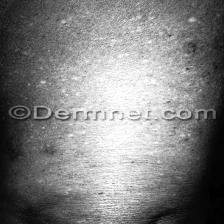Benign Marking or Mole: (75, 12, 157, 56), (31, 70, 110, 99), (182, 12, 216, 62), (0, 141, 61, 164)
